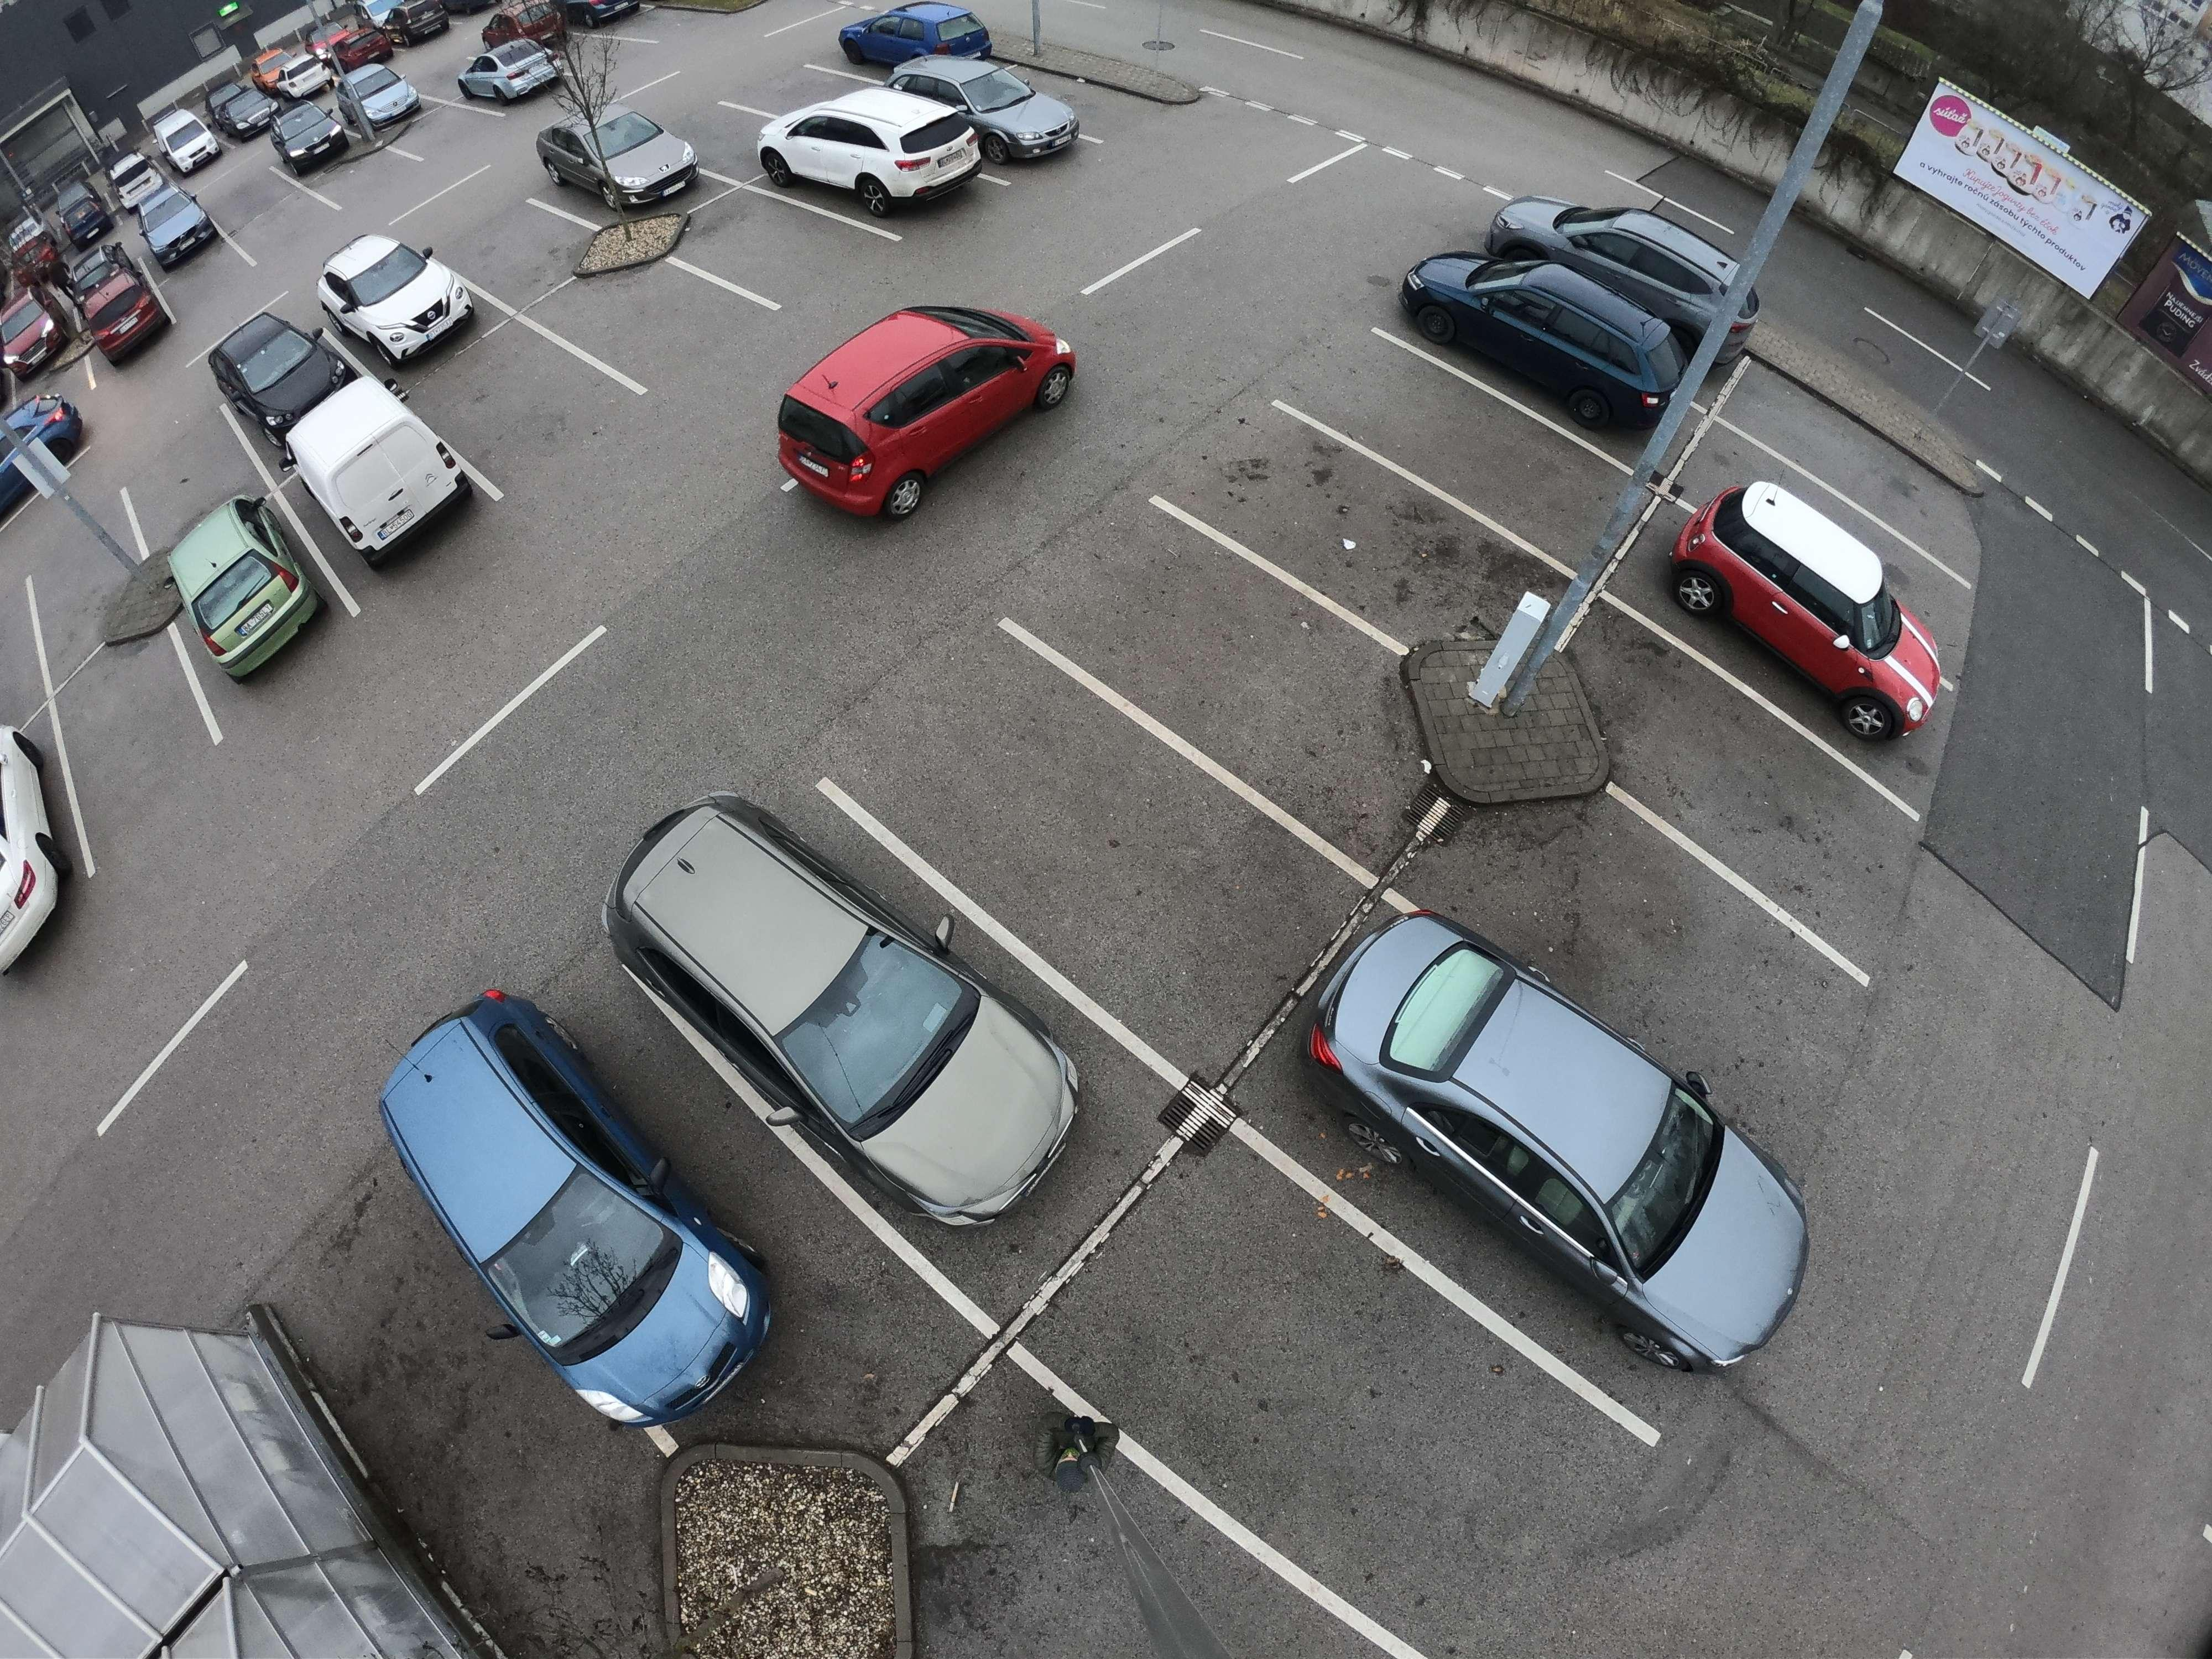empty: (1280, 889, 1820, 1354), (585, 765, 1090, 1229), (345, 979, 747, 1410), (1667, 479, 1947, 728), (759, 305, 1057, 519), (1406, 251, 1676, 420), (265, 356, 484, 552), (2, 695, 98, 995), (1512, 199, 1747, 310), (171, 495, 314, 674), (312, 232, 498, 362), (759, 92, 975, 204), (545, 103, 719, 213), (894, 68, 1073, 157), (212, 301, 350, 408), (845, 3, 991, 68), (77, 268, 174, 357), (449, 40, 561, 110), (146, 195, 233, 274), (7, 286, 80, 376), (270, 108, 369, 173), (359, 77, 437, 139), (164, 122, 226, 176), (563, 0, 644, 28)
occupied: (1170, 1297, 1442, 1481), (949, 739, 1190, 899), (1543, 863, 1752, 1012), (968, 1551, 1240, 1654), (1106, 584, 1292, 695), (1635, 706, 1782, 807), (1263, 479, 1423, 570), (30, 523, 143, 627), (64, 667, 188, 756), (577, 288, 714, 366), (1386, 392, 1515, 476), (1791, 404, 1892, 490), (467, 371, 571, 443), (136, 448, 235, 519), (221, 188, 319, 249), (1055, 66, 1136, 138), (721, 211, 815, 270), (664, 99, 749, 164), (472, 218, 563, 272), (326, 138, 404, 197), (752, 70, 829, 118), (152, 265, 240, 307), (406, 99, 465, 160)
